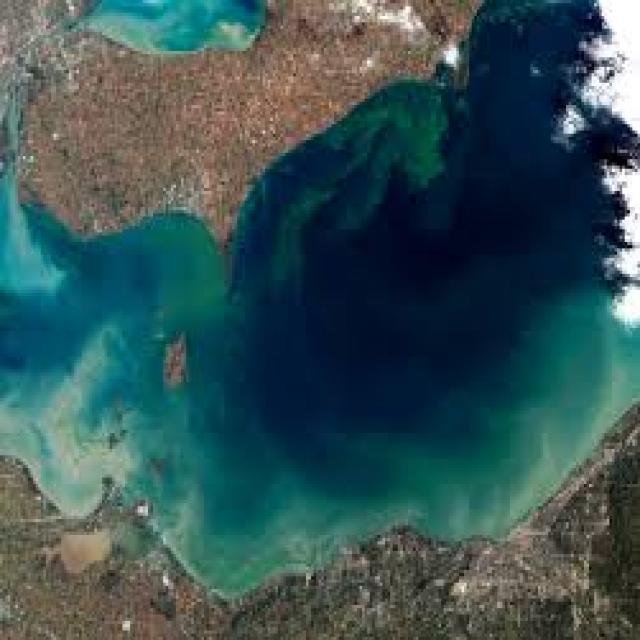algal: (169, 4, 634, 589), (0, 179, 288, 525)
